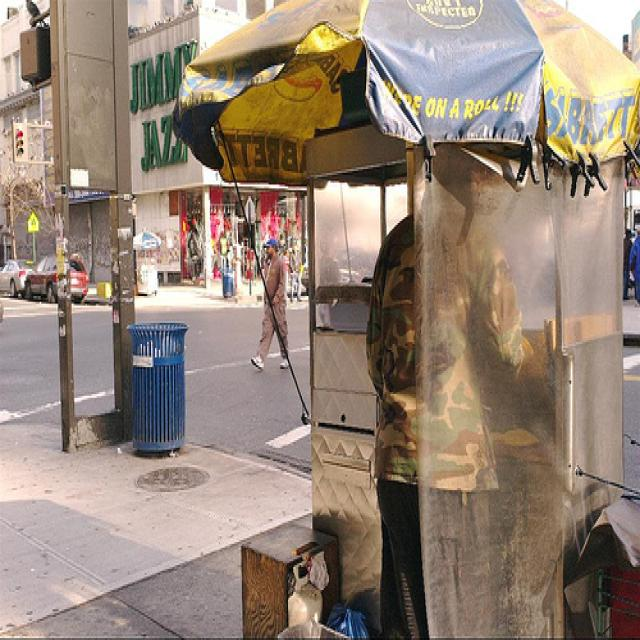Vehicle: (23, 253, 90, 304), (1, 258, 38, 296)
